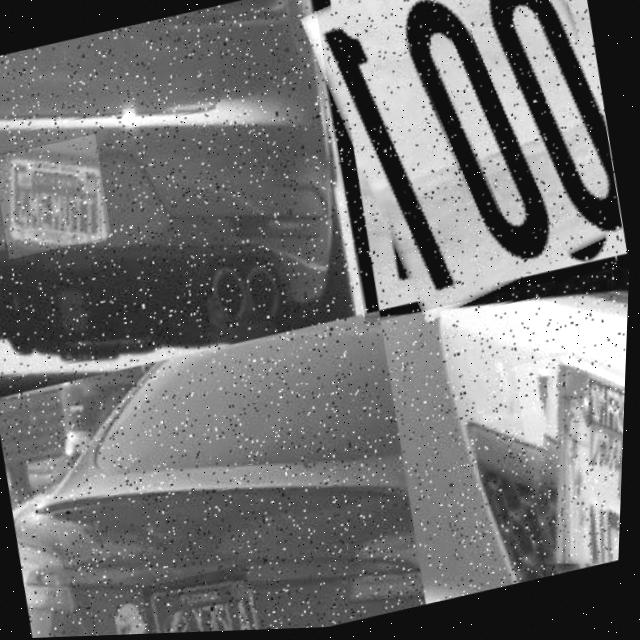LicensePlate: (302, 0, 640, 329), (511, 342, 629, 582), (0, 134, 116, 260), (148, 573, 261, 635)
